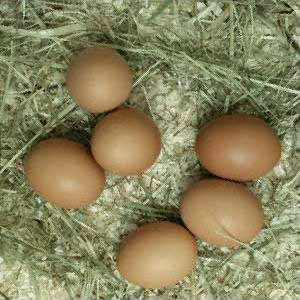egg: (24, 136, 106, 209), (179, 179, 265, 248), (196, 116, 282, 180), (116, 221, 197, 287), (88, 109, 161, 175), (66, 46, 133, 112)
